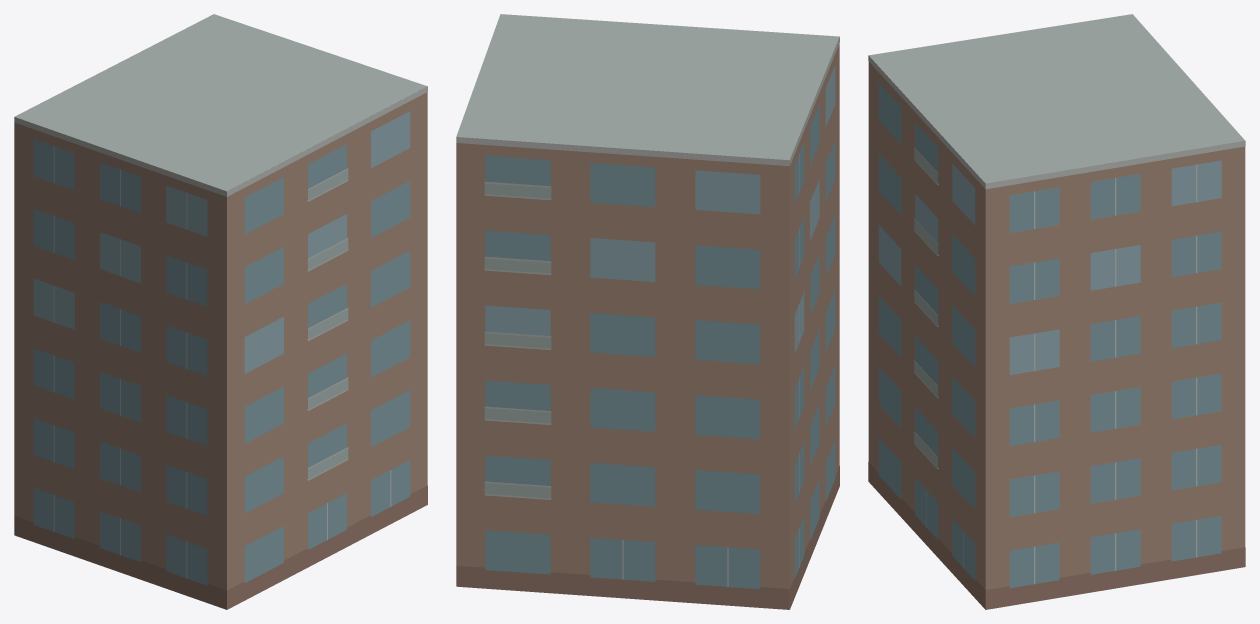
File: survey-upis-33009465.glb
3 views of the same model, side by side, from view 1: azimuth 30°, elevation 25°; view 2: azimuth 150°, elevation 25°; view 3: azimuth 270°, elevation 25° (orthographic). The views are drawn at different scales.
Visible parts, largest first — view 1: survey-upis-33009465.tmp; view 2: survey-upis-33009465.tmp; view 3: survey-upis-33009465.tmp.
Boxes of the visible parts, x1,y1,x2,y2 form: survey-upis-33009465.tmp: (14, 14, 427, 609); survey-upis-33009465.tmp: (456, 14, 839, 609); survey-upis-33009465.tmp: (868, 14, 1245, 609).
Size of the model in its own units: 15.63 by 18.3 by 14.68.
